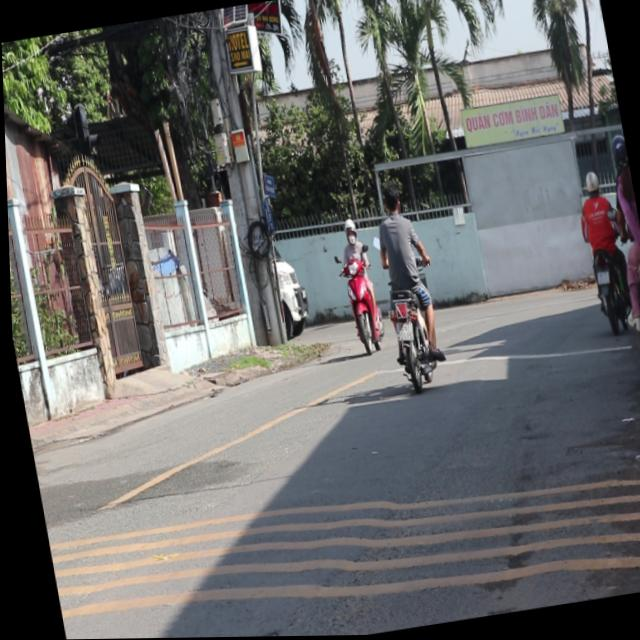helmet: (606, 134, 628, 172), (615, 122, 628, 167)
licenseplate: (361, 178, 446, 392), (593, 122, 640, 385)
motorcyclist: (376, 183, 399, 217)
nohelmet: (392, 322, 410, 342)
